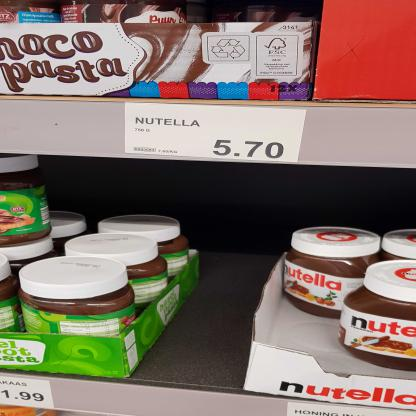prtg: (126, 103, 307, 163), (2, 378, 55, 409), (288, 403, 386, 415)
